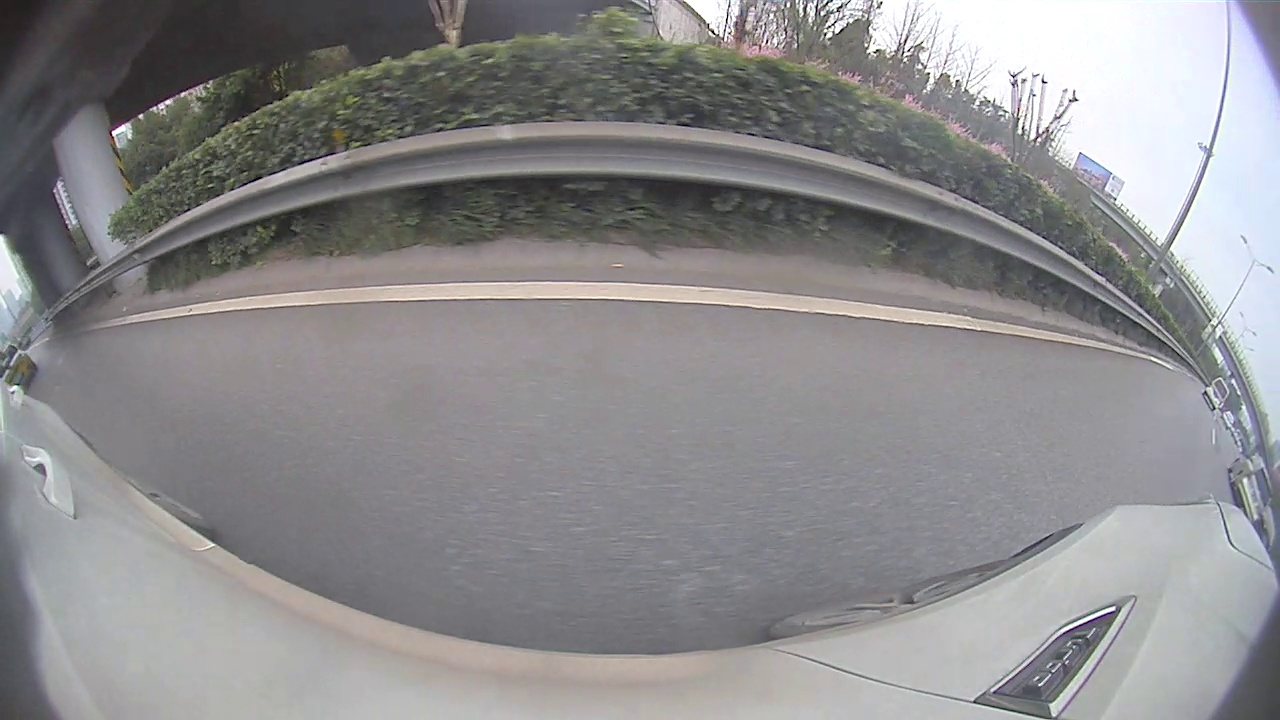car: (1228, 453, 1271, 522), (1, 339, 34, 384), (1201, 378, 1231, 410)
